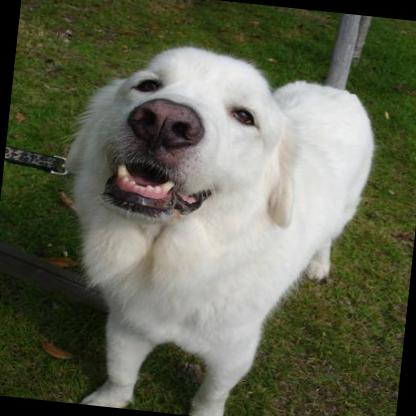Great_Pyrenees: (34, 31, 384, 416)
